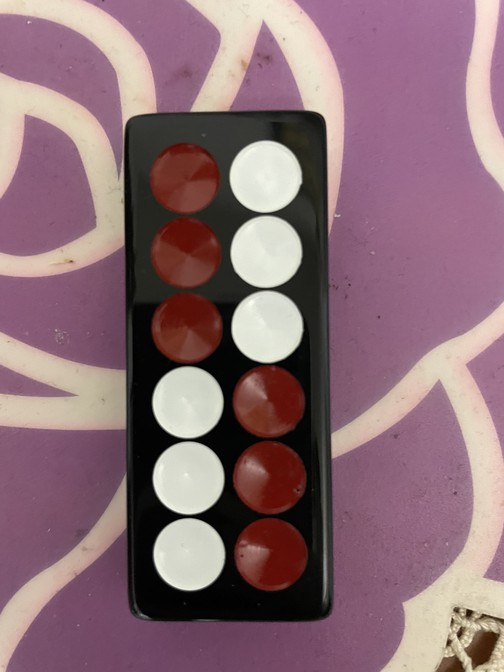heaven: (123, 110, 336, 623)
